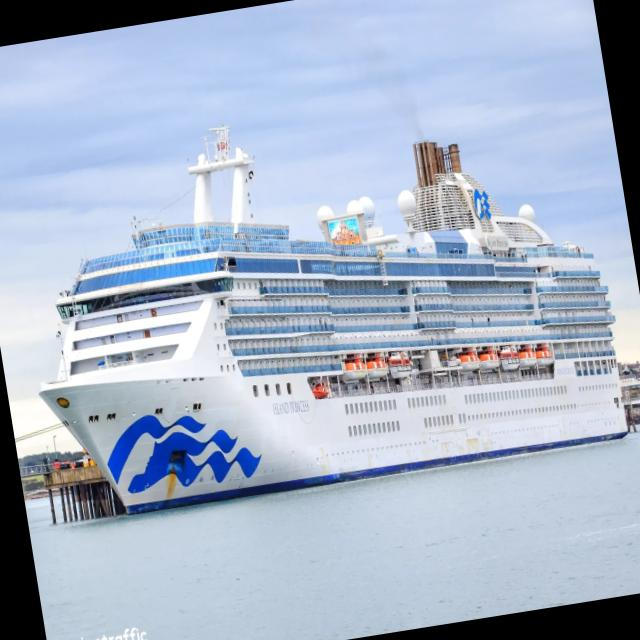Cruise: (40, 127, 627, 513)
